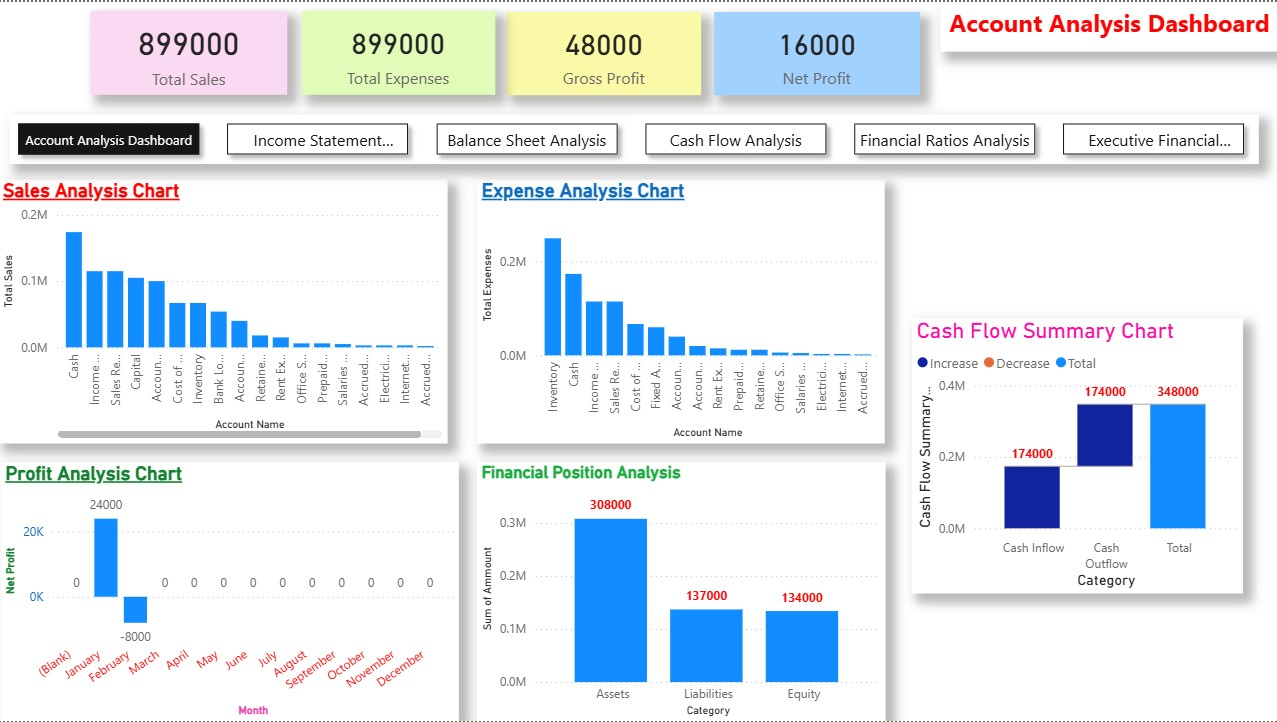

This screenshot's page, from the dashboard's own definition file:
{"tool":"powerbi","page":{"name":"Account Analysis Dashboard ","canvas":[1280,720],"ordinal":0},"visuals":[{"type":"card","fields":{"Values":["Journal Entries.Total Sales"]},"box":[92.9,8.2,196.9,84.4],"z":0},{"type":"card","fields":{"Values":["Financial Measures.Gross Profit"]},"box":[508.7,9.4,194.4,83.2],"z":1000},{"type":"card","fields":{"Values":["Journal Entries.Total Expenses"]},"box":[303.2,8.2,193.2,84.4],"z":2000},{"type":"card","fields":{"Values":["Financial Measures.Net Profit"]},"box":[716.5,9.4,205.4,83.2],"z":3000},{"type":"clusteredColumnChart","title":"Sales Analysis Chart","fields":{"Category":["Chart of Accounts.Account Name"],"Y":["Journal Entries.Total Sales"]},"box":[0,177.7,449.6,263.9],"z":4000},{"type":"clusteredColumnChart","title":"Expense Analysis Chart","fields":{"Category":["Chart of Accounts.Account Name"],"Y":["Journal Entries.Total Expenses"]},"box":[479.3,177.7,407.9,263.9],"z":5000},{"type":"clusteredColumnChart","title":"Profit Analysis Chart","fields":{"Category":["Date Table.Date.Variation.Date Hierarchy.Month"],"Y":["Financial Measures.Net Profit"]},"box":[2.7,459.8,458.5,260.1],"z":6000},{"type":"textbox","box":[942.4,0,337.9,49.8],"z":7000},{"type":"clusteredColumnChart","title":"Financial Position Analysis","fields":{"Category":["Financial Position Data.Category"],"Y":["Sum(Financial Position Data.Ammount)"]},"box":[478.6,459.8,408.9,260.1],"z":8000},{"type":"waterfallChart","title":"Cash Flow Summary Chart","fields":{"Category":["Cash Flow Summary.Category"],"Y":["Financial Measures.Cash Flow Summary Amount"]},"box":[914.3,316.4,331.1,274.8],"z":9000},{"type":"pageNavigator","box":[10.7,112.6,1249.4,49.6],"z":10000}]}

Visuals, with their boxes in screenshot pixels (x1, y1, x2, y2), scaled from the page's 1280x720 canvas onto the 1277x722 screenshot:
card - Journal Entries.Total Sales: x1=93 y1=8 x2=289 y2=93
card - Financial Measures.Gross Profit: x1=508 y1=9 x2=701 y2=93
card - Journal Entries.Total Expenses: x1=302 y1=8 x2=495 y2=93
card - Financial Measures.Net Profit: x1=715 y1=9 x2=920 y2=93
"Sales Analysis Chart" clusteredColumnChart: x1=0 y1=178 x2=449 y2=443
"Expense Analysis Chart" clusteredColumnChart: x1=478 y1=178 x2=885 y2=443
"Profit Analysis Chart" clusteredColumnChart: x1=3 y1=461 x2=460 y2=721
textbox: x1=940 y1=0 x2=1276 y2=50
"Financial Position Analysis" clusteredColumnChart: x1=477 y1=461 x2=885 y2=721
"Cash Flow Summary Chart" waterfallChart: x1=912 y1=317 x2=1242 y2=593
pageNavigator: x1=11 y1=113 x2=1257 y2=163
